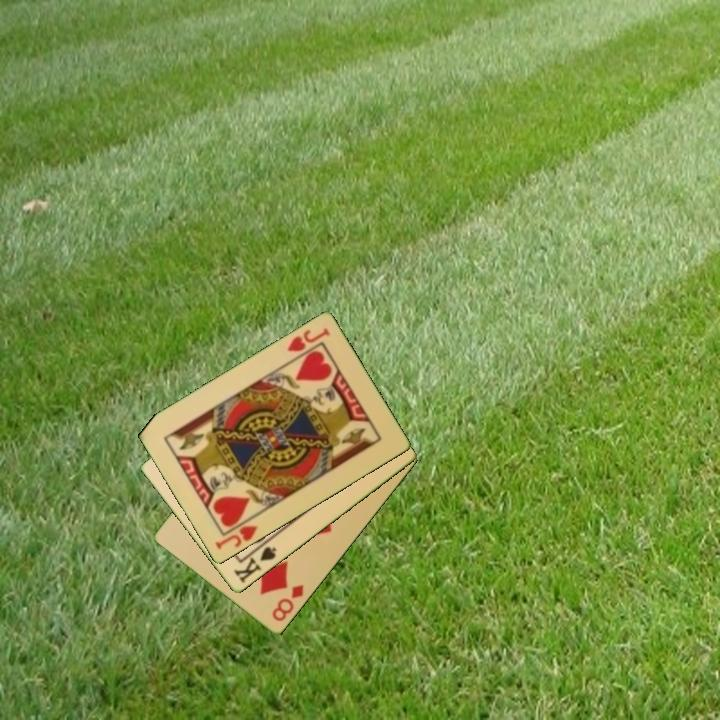8d: (268, 581, 307, 625)
Jh: (211, 522, 261, 553), (283, 325, 333, 355)
Ks: (230, 538, 279, 586)
